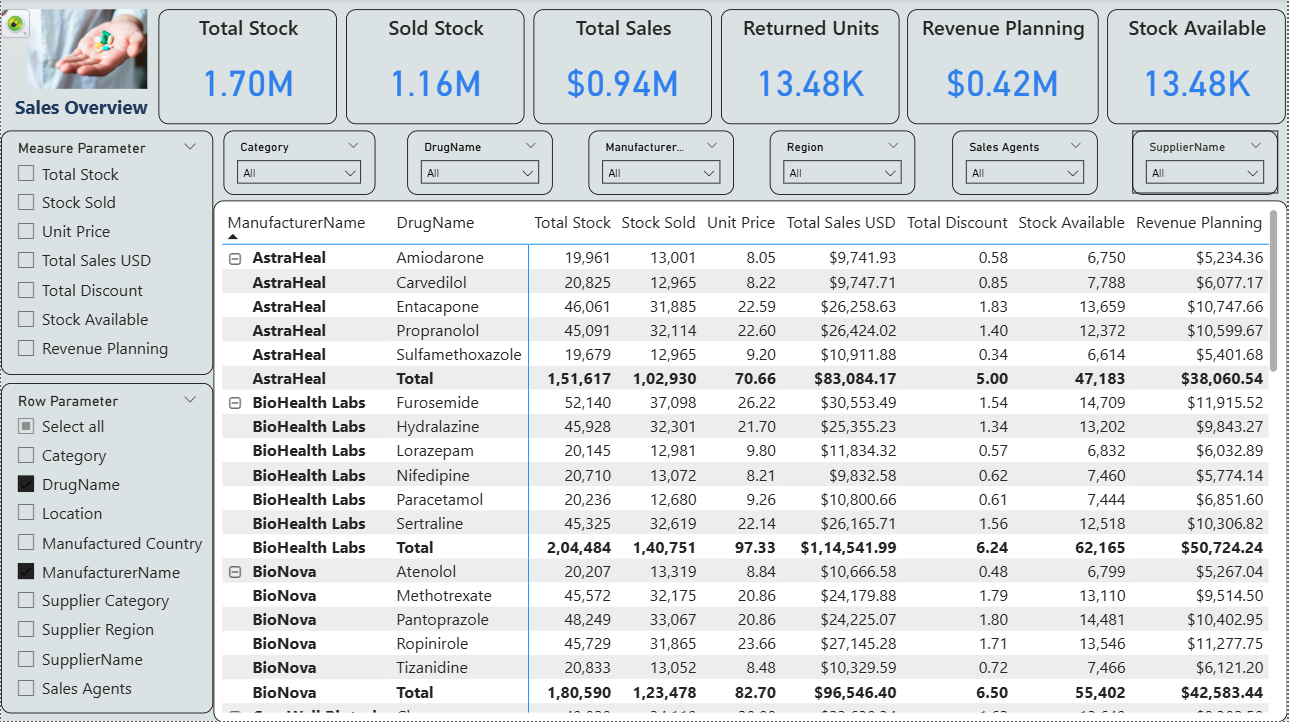

The dashboard page shown, as its layout file describes it:
{"tool":"powerbi","page":{"name":"Sales Overview","canvas":[1280,720],"ordinal":1},"visuals":[{"type":"pivotTable","fields":{"Rows":["d_manufacture.ManufacturerName","d_drugs.DrugName"],"Values":["f_pharma_sales.TOTAL STOCK","f_pharma_sales.STOCK SOLD","f_pharma_sales.UNIT PRICE","f_pharma_sales.TOTAL SALES USD","f_pharma_sales.TOTAL DISCOUNT","f_pharma_sales.STOCK AVAILABLE","f_pharma_sales.REVENUE PLANNING"]},"box":[211,201.2,1068.7,519],"z":0},{"type":"slicer","fields":{"Values":["Row Parameter.Row Parameter"]},"box":[0,382.8,211,328.8],"z":1000},{"type":"slicer","fields":{"Values":["Measure Parameter.Measure Parameter"]},"box":[0,131.3,211,242.9],"z":2000},{"type":"textbox","box":[8.7,90.7,176.5,44.7],"z":3000},{"type":"card","title":"Total Stock","fields":{"Values":["f_pharma_sales.TOTAL STOCK"]},"box":[156.6,11.2,177.7,114.4],"z":4000},{"type":"card","title":"Sold Stock","fields":{"Values":["f_pharma_sales.STOCK SOLD"]},"box":[343.1,11.2,177.7,114.4],"z":5000},{"type":"card","title":"Total Sales","fields":{"Values":["f_pharma_sales.TOTAL SALES USD"]},"box":[529.5,11.2,177.7,114.4],"z":6000},{"type":"card","title":"Returned Units","fields":{"Values":["f_pharma_sales.UNITS RETURNED"]},"box":[715.9,11.2,177.7,114.4],"z":7000},{"type":"card","title":"Revenue Planning","fields":{"Values":["f_pharma_sales.REVENUE PLANNING"]},"box":[902.4,11.2,190.2,114.4],"z":8000},{"type":"card","title":"Stock Available","fields":{"Values":["f_pharma_sales.UNITS RETURNED"]},"box":[1101.3,11.2,177.7,114.4],"z":9000},{"type":"image","box":[0,11.2,171.5,79.5],"z":10000},{"type":"slicer","fields":{"Values":["d_drugs.Category"]},"box":[220.9,131.3,150.9,63.8],"z":11000},{"type":"slicer","fields":{"Values":["d_drugs.DrugName"]},"box":[403.7,131.3,144.8,63.8],"z":12000},{"type":"slicer","fields":{"Values":["d_manufacture.ManufacturerName"]},"box":[585.3,131.3,144.8,63.8],"z":13000},{"type":"slicer","fields":{"Values":["d_suppliers.Region"]},"box":[765.6,131.3,144.8,63.8],"z":14000},{"type":"slicer","fields":{"Values":["d_sales_agent.Sales Agents"]},"box":[947.2,131.3,144.8,63.8],"z":15000},{"type":"slicer","fields":{"Values":["d_suppliers.SupplierName"]},"box":[1126.4,131.3,144.8,63.8],"z":16000},{"type":"image","box":[0,11.2,28.6,28.6],"z":17000}]}

Visuals, with their boxes on the page's 1280x720 design canvas (x1, y1, x2, y2). These are canvas units, not pixel positions in the 1289x722 screenshot, which may show the page scaled, cropped or inside an application window:
pivotTable - d_manufacture.ManufacturerName x d_drugs.DrugName: [211, 201, 1280, 720]
slicer - Row Parameter.Row Parameter: [0, 383, 211, 712]
slicer - Measure Parameter.Measure Parameter: [0, 131, 211, 374]
textbox: [9, 91, 185, 135]
"Total Stock" card: [157, 11, 334, 126]
"Sold Stock" card: [343, 11, 521, 126]
"Total Sales" card: [530, 11, 707, 126]
"Returned Units" card: [716, 11, 894, 126]
"Revenue Planning" card: [902, 11, 1093, 126]
"Stock Available" card: [1101, 11, 1279, 126]
image: [0, 11, 172, 91]
slicer - d_drugs.Category: [221, 131, 372, 195]
slicer - d_drugs.DrugName: [404, 131, 548, 195]
slicer - d_manufacture.ManufacturerName: [585, 131, 730, 195]
slicer - d_suppliers.Region: [766, 131, 910, 195]
slicer - d_sales_agent.Sales Agents: [947, 131, 1092, 195]
slicer - d_suppliers.SupplierName: [1126, 131, 1271, 195]
image: [0, 11, 29, 40]
